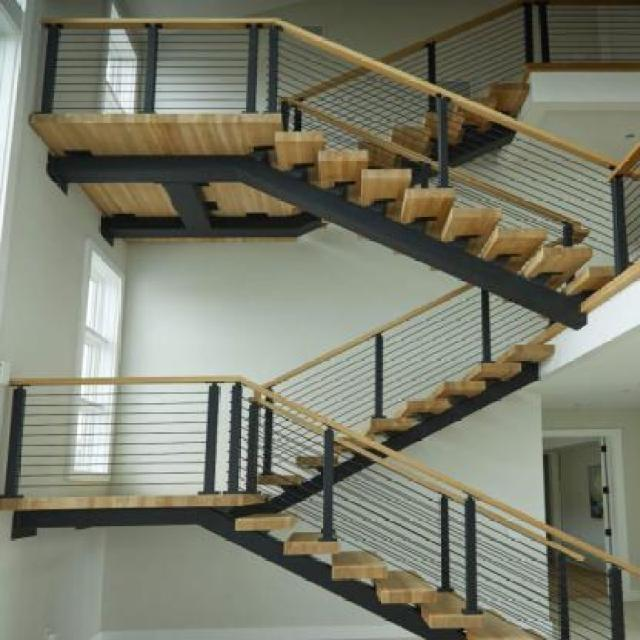stair: (3, 334, 640, 638), (178, 30, 610, 312)
